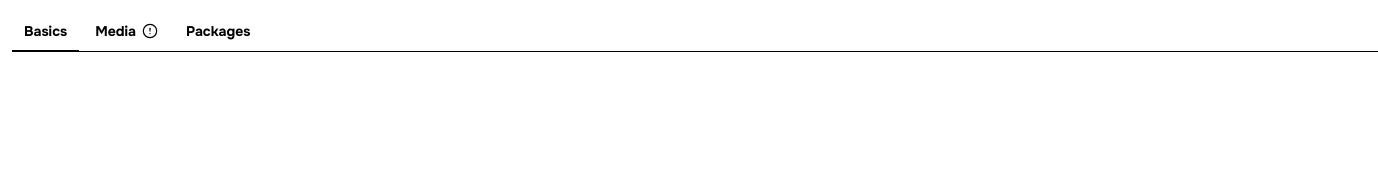
Test case: Tabs › opens a tab on click and ties it to its panel
Click the tab "Packages" at (218, 32), box [174,12,262,52]
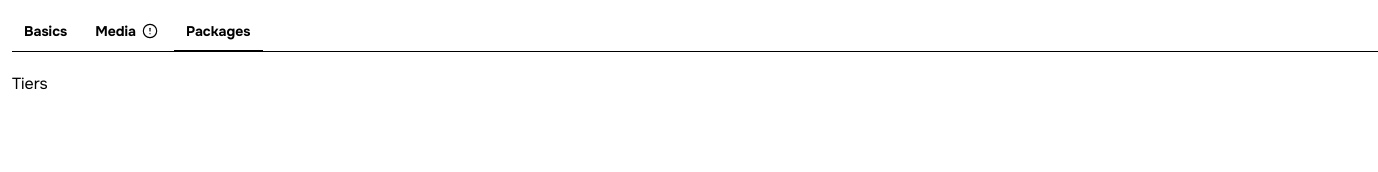
Check: the field labelled "Title" is gone
